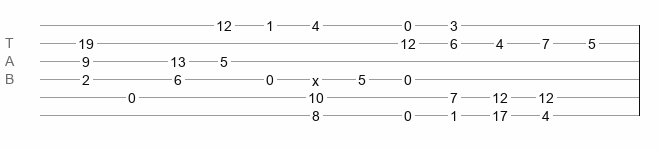0: (128, 90, 136, 100), (266, 72, 274, 82), (404, 18, 412, 28), (404, 108, 412, 118), (404, 72, 412, 82)
1: (266, 18, 274, 28), (450, 108, 458, 118)
10: (308, 90, 324, 100)
12: (216, 18, 232, 28), (400, 36, 416, 46), (492, 90, 508, 100), (538, 90, 554, 100)
13: (170, 54, 186, 64)
17: (492, 108, 508, 118)
19: (78, 36, 94, 46)
2: (82, 72, 90, 82)
3: (450, 18, 458, 28)
4: (312, 18, 320, 28), (496, 36, 504, 46), (542, 108, 550, 118)
5: (220, 54, 228, 64), (358, 72, 366, 82), (588, 36, 596, 46)
6: (174, 72, 182, 82), (450, 36, 458, 46)
7: (450, 90, 458, 100), (542, 36, 550, 46)
8: (312, 108, 320, 118)
9: (82, 54, 90, 64)
x: (312, 73, 319, 81)
